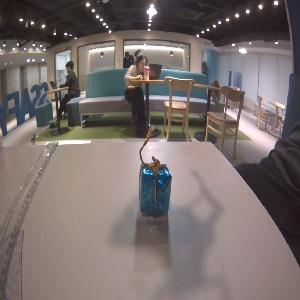box: (140, 161, 173, 216)
